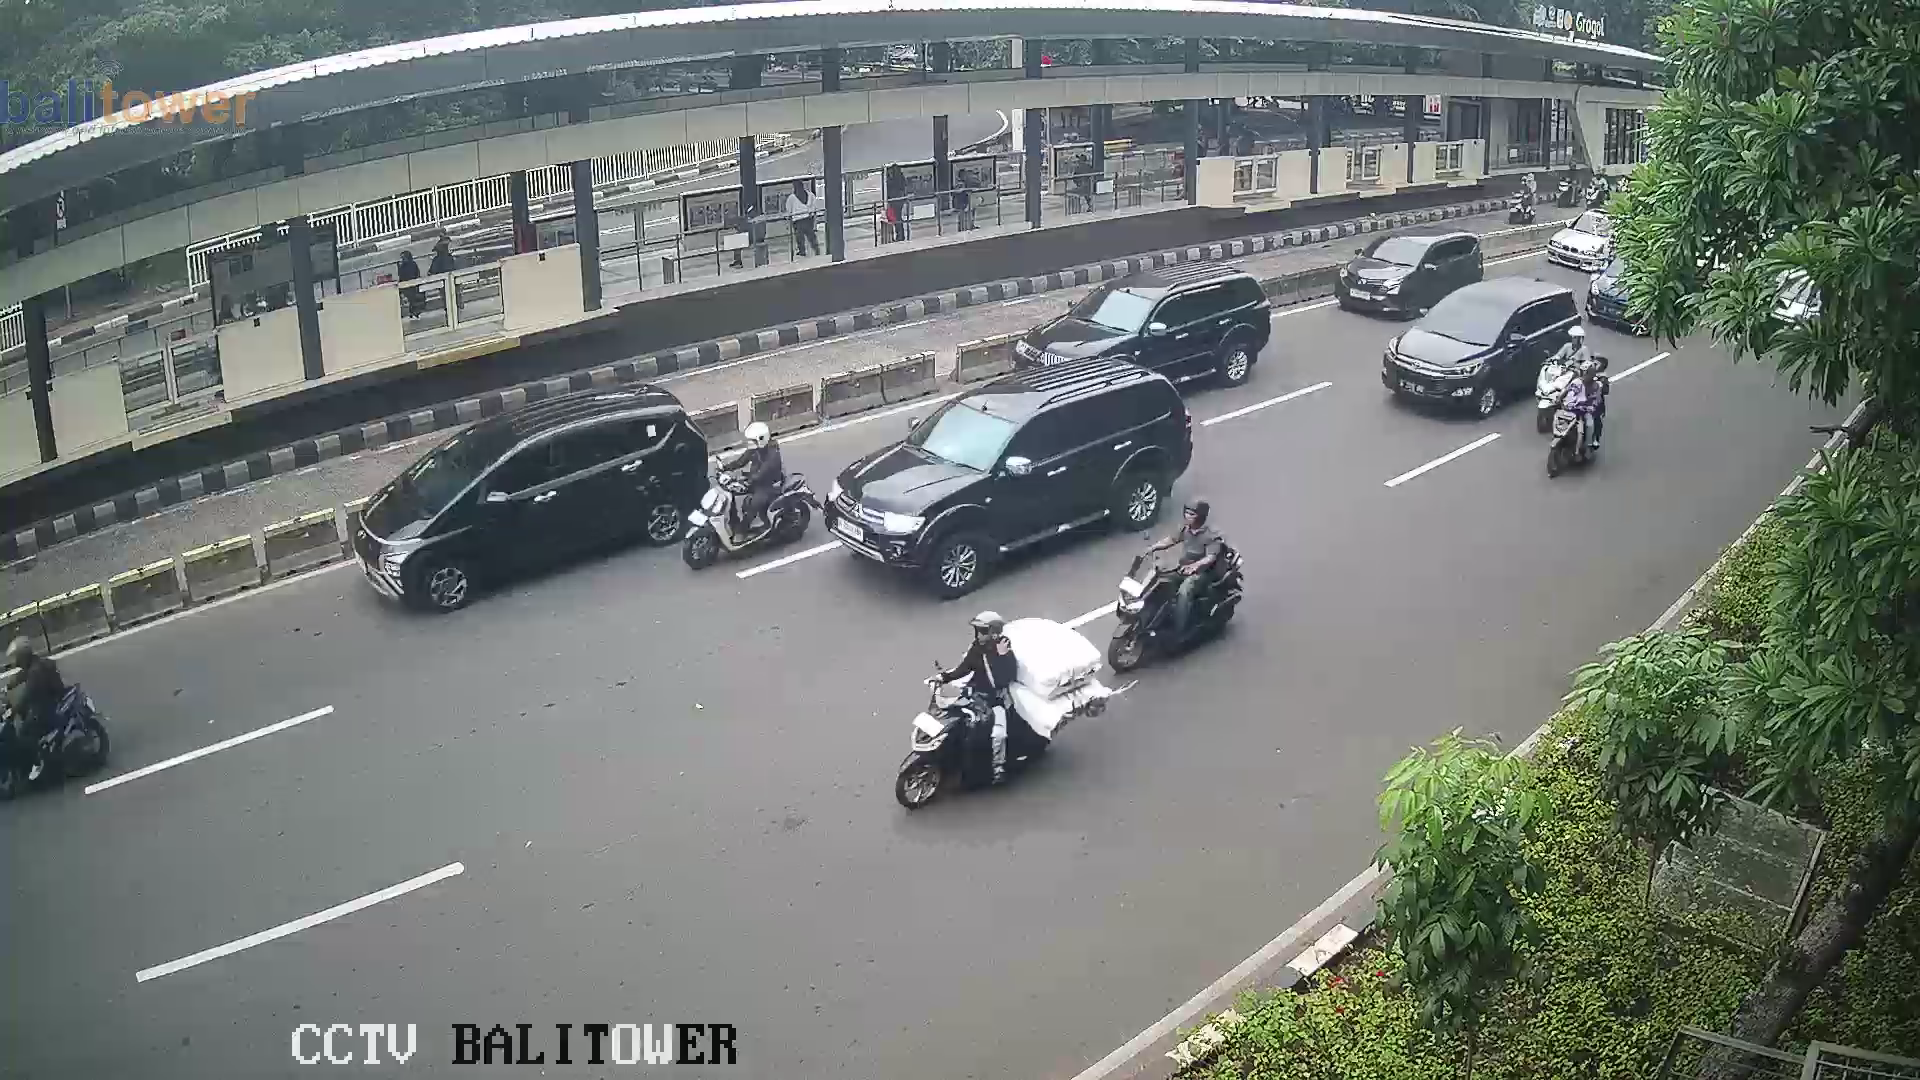half-face helmet: (731, 412, 784, 455), (1, 629, 41, 676), (1178, 490, 1215, 537), (970, 614, 1008, 647), (1582, 361, 1602, 390)
